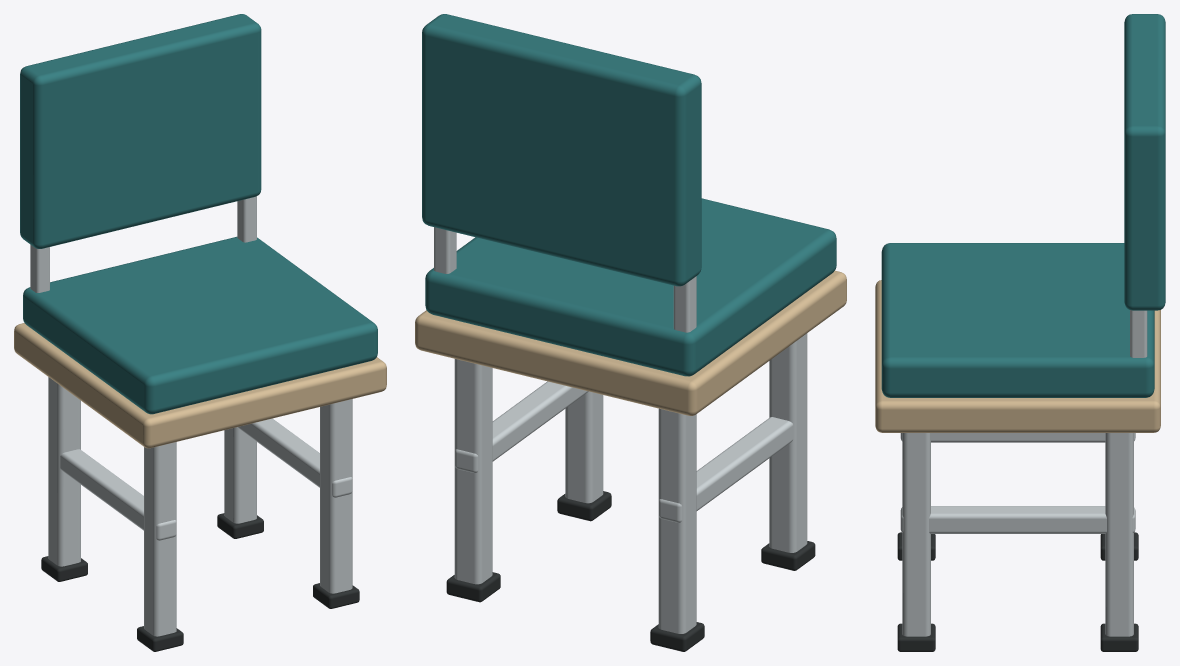
File: tabletop-hobby-store-and-club-padded-gaming-chair-cdadb898__31570.glb
The picture shows the model from 3 angles, left to right: view 1: azimuth 30°, elevation 25°; view 2: azimuth 150°, elevation 25°; view 3: azimuth 270°, elevation 25°; orthographic projection. The views are drawn at different scales.
Parts seen in each view (by area): view 1: padded-gaming-chair; view 2: padded-gaming-chair; view 3: padded-gaming-chair.
Boxes of the visible parts, x1=… form: padded-gaming-chair: x1=14, y1=14, x2=386, y2=651; padded-gaming-chair: x1=415, y1=14, x2=846, y2=651; padded-gaming-chair: x1=875, y1=14, x2=1165, y2=651.
Bounding box in the file's own units: 0.47 × 0.92 × 0.4575.
